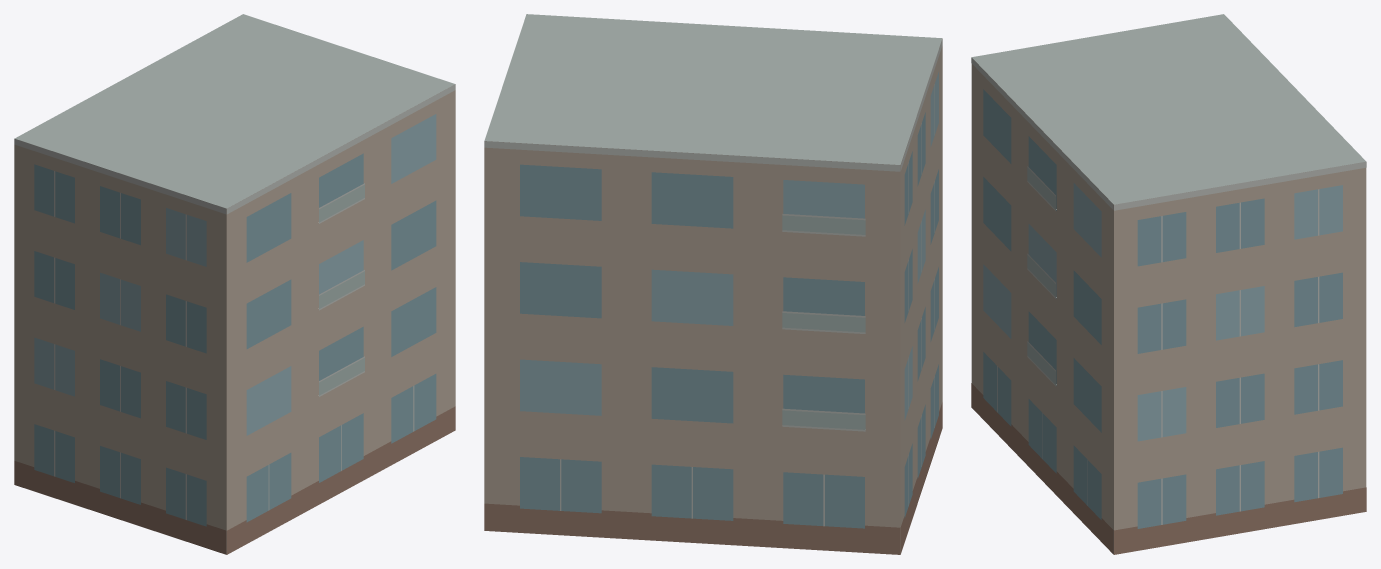
The model's file is survey-upis-33045126.glb.
3 views of the same model, side by side, from view 1: azimuth 30°, elevation 25°; view 2: azimuth 150°, elevation 25°; view 3: azimuth 270°, elevation 25° (orthographic). The views are drawn at different scales.
Visible parts, largest first — view 1: survey-upis-33045126.tmp; view 2: survey-upis-33045126.tmp; view 3: survey-upis-33045126.tmp.
Boxes of the visible parts, left/top/right/bottom form: survey-upis-33045126.tmp: left=14, top=14, right=455, bottom=554; survey-upis-33045126.tmp: left=484, top=14, right=942, bottom=554; survey-upis-33045126.tmp: left=971, top=14, right=1366, bottom=554.
Bounding box in the file's own units: 16.6 × 14.2 × 14.53.
